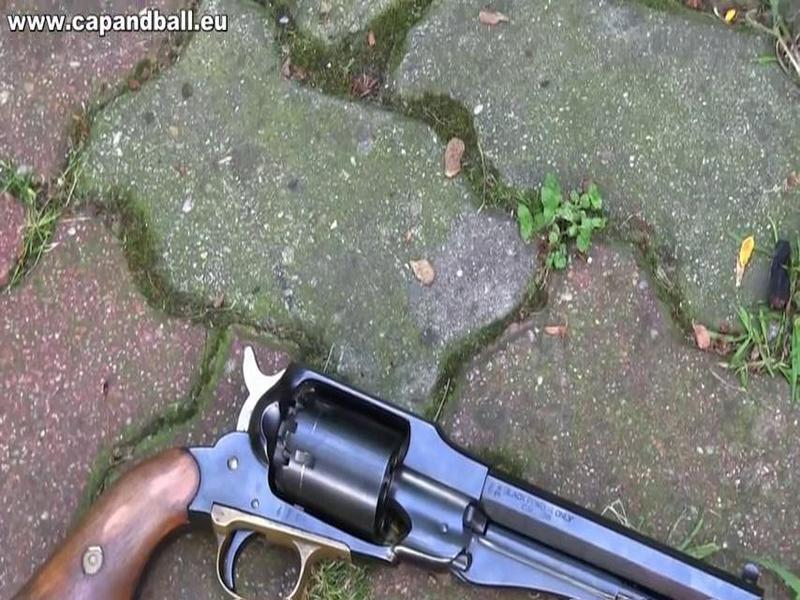Revolver: (153, 318, 542, 600)
